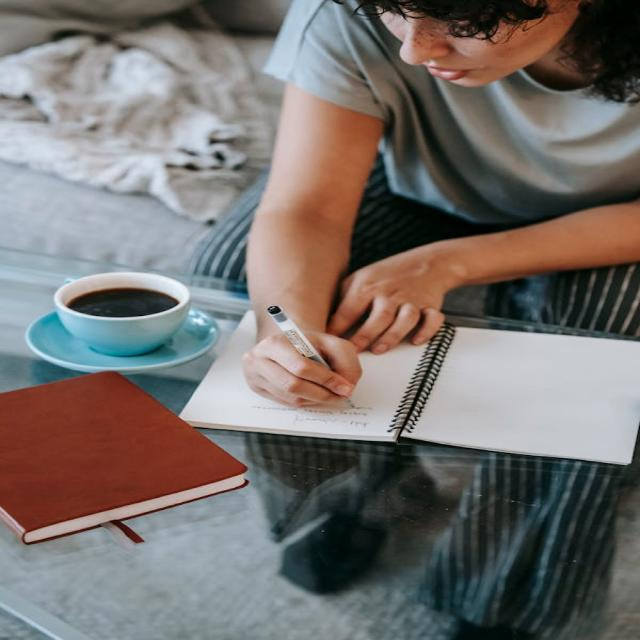pen: (252, 293, 377, 420)
